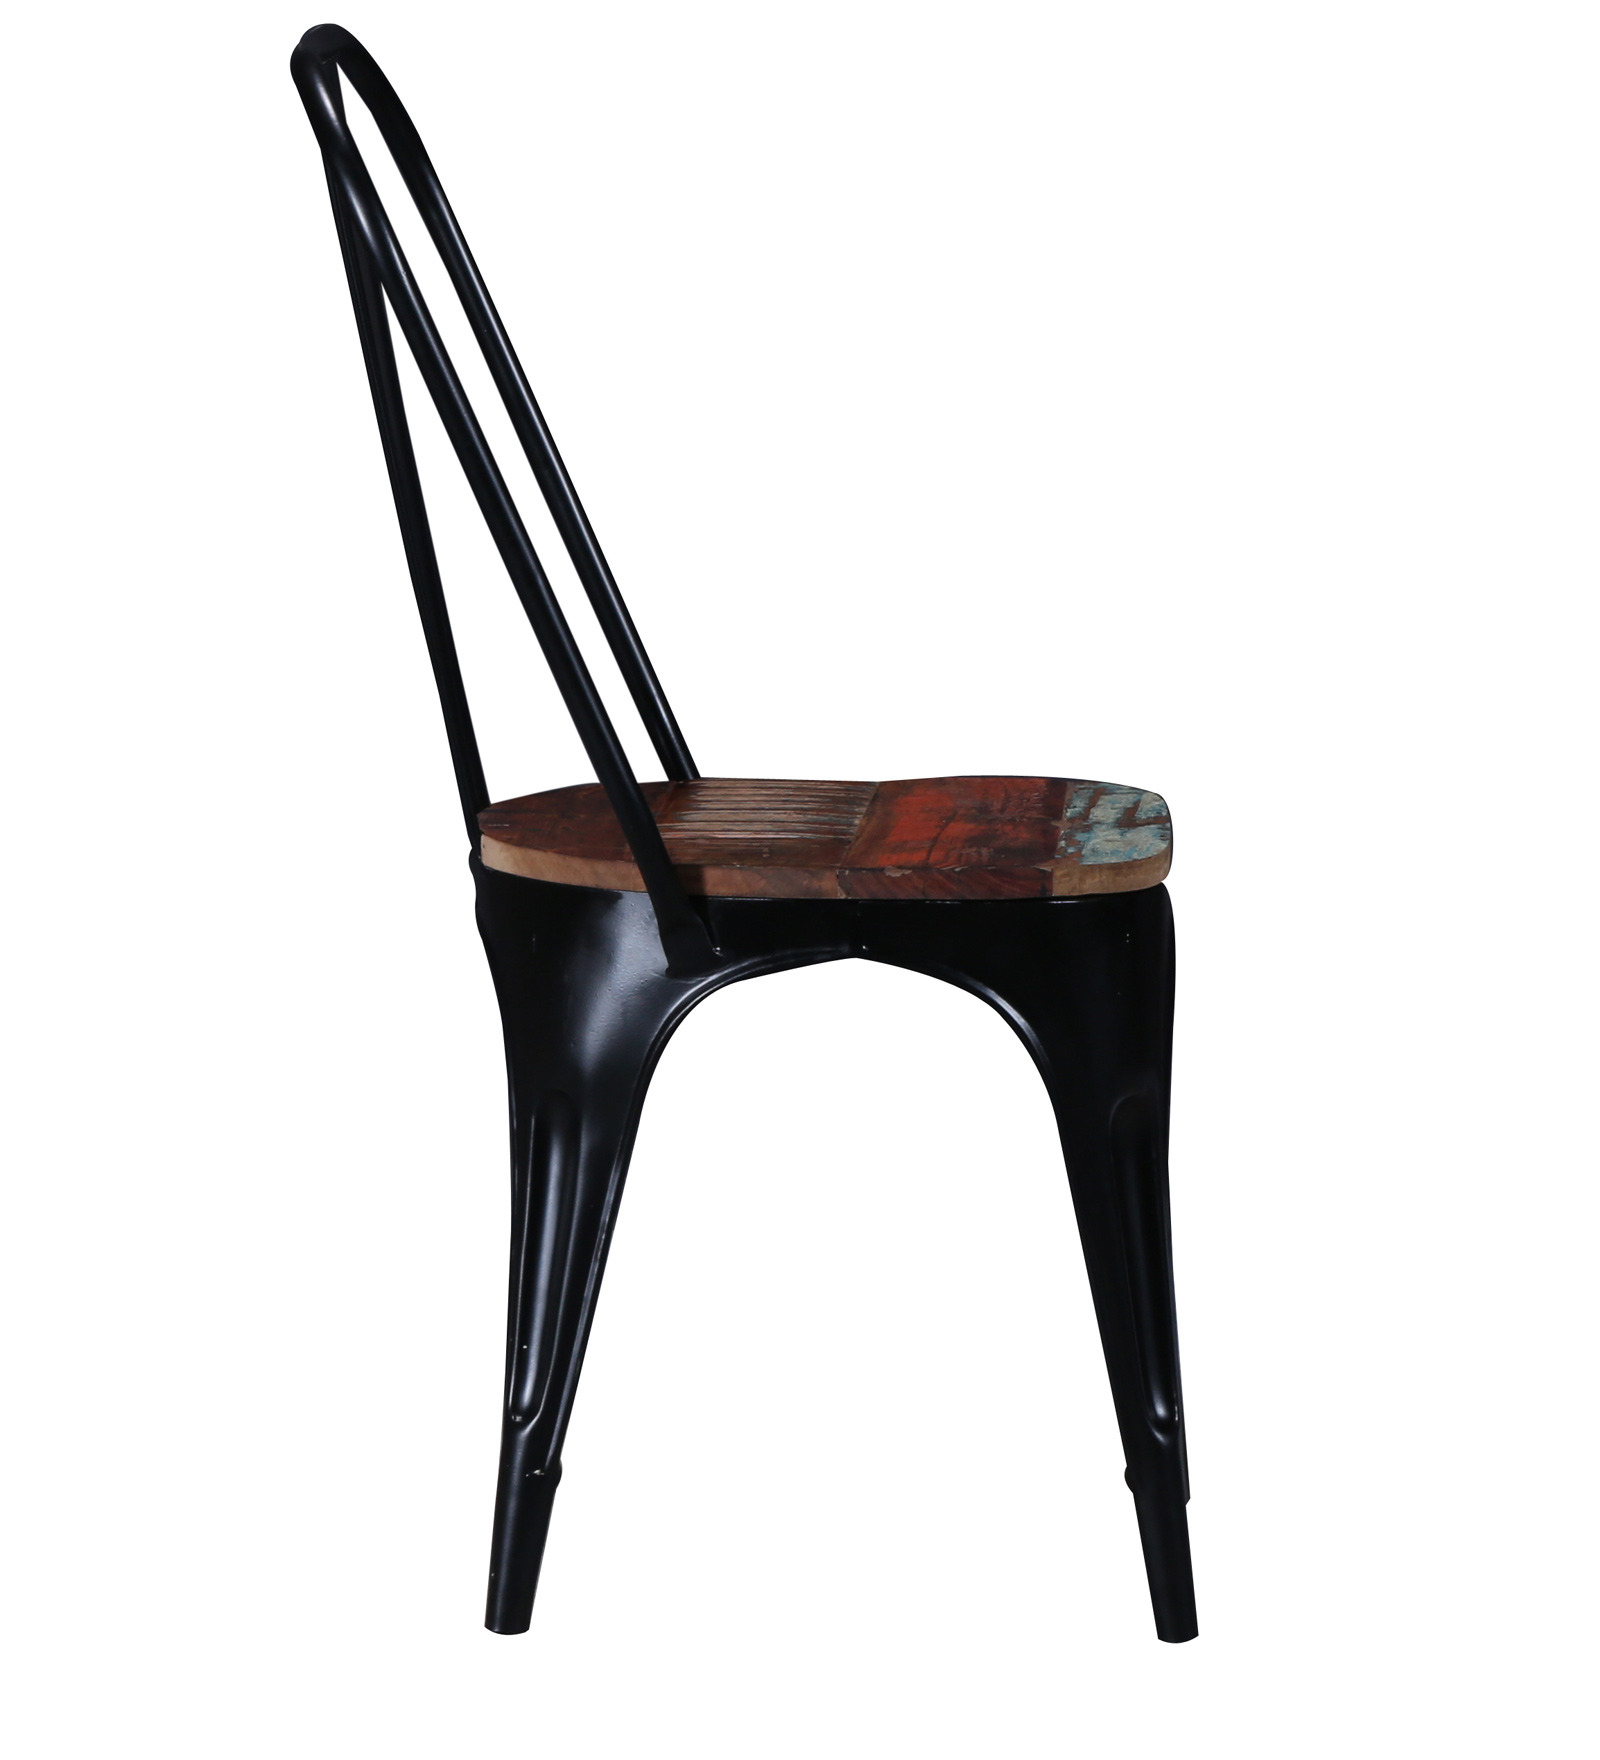Kumtor Metal Chair in Distress Black Color with Wooden Seat by Bohemiana: (231, 9, 1323, 1688)
